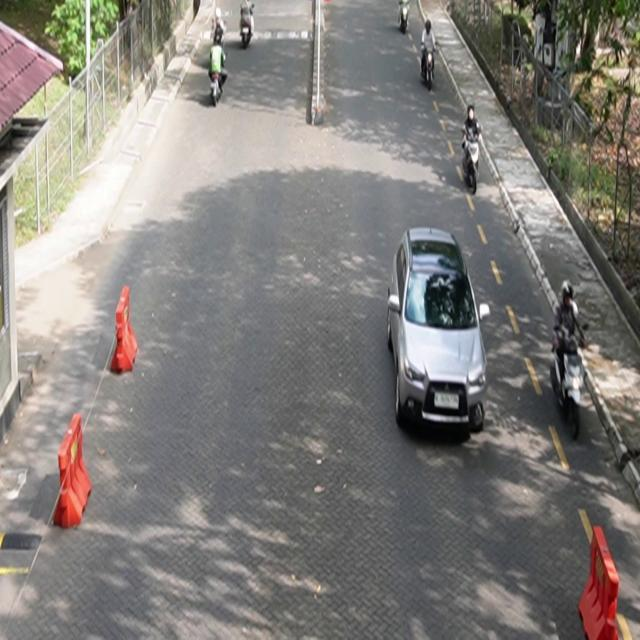car: (387, 227, 491, 435)
